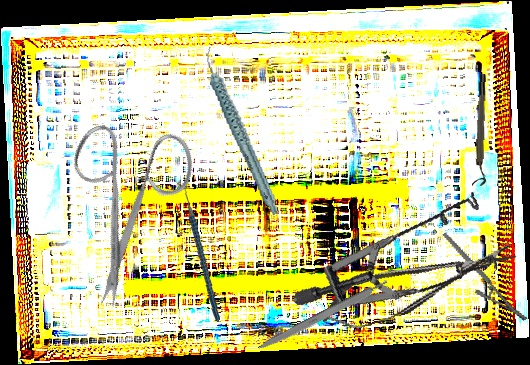Chopper: (162, 179, 232, 322)
Fixation Ring: (472, 73, 492, 187)
Handpiece: (204, 40, 280, 222)
Iris Scissors: (23, 92, 241, 315)
Micro Scissor: (314, 233, 524, 338)
Needle Holder: (441, 216, 529, 337)
Scalpel Handle: (256, 278, 391, 354)
Speculum: (292, 158, 513, 347)
